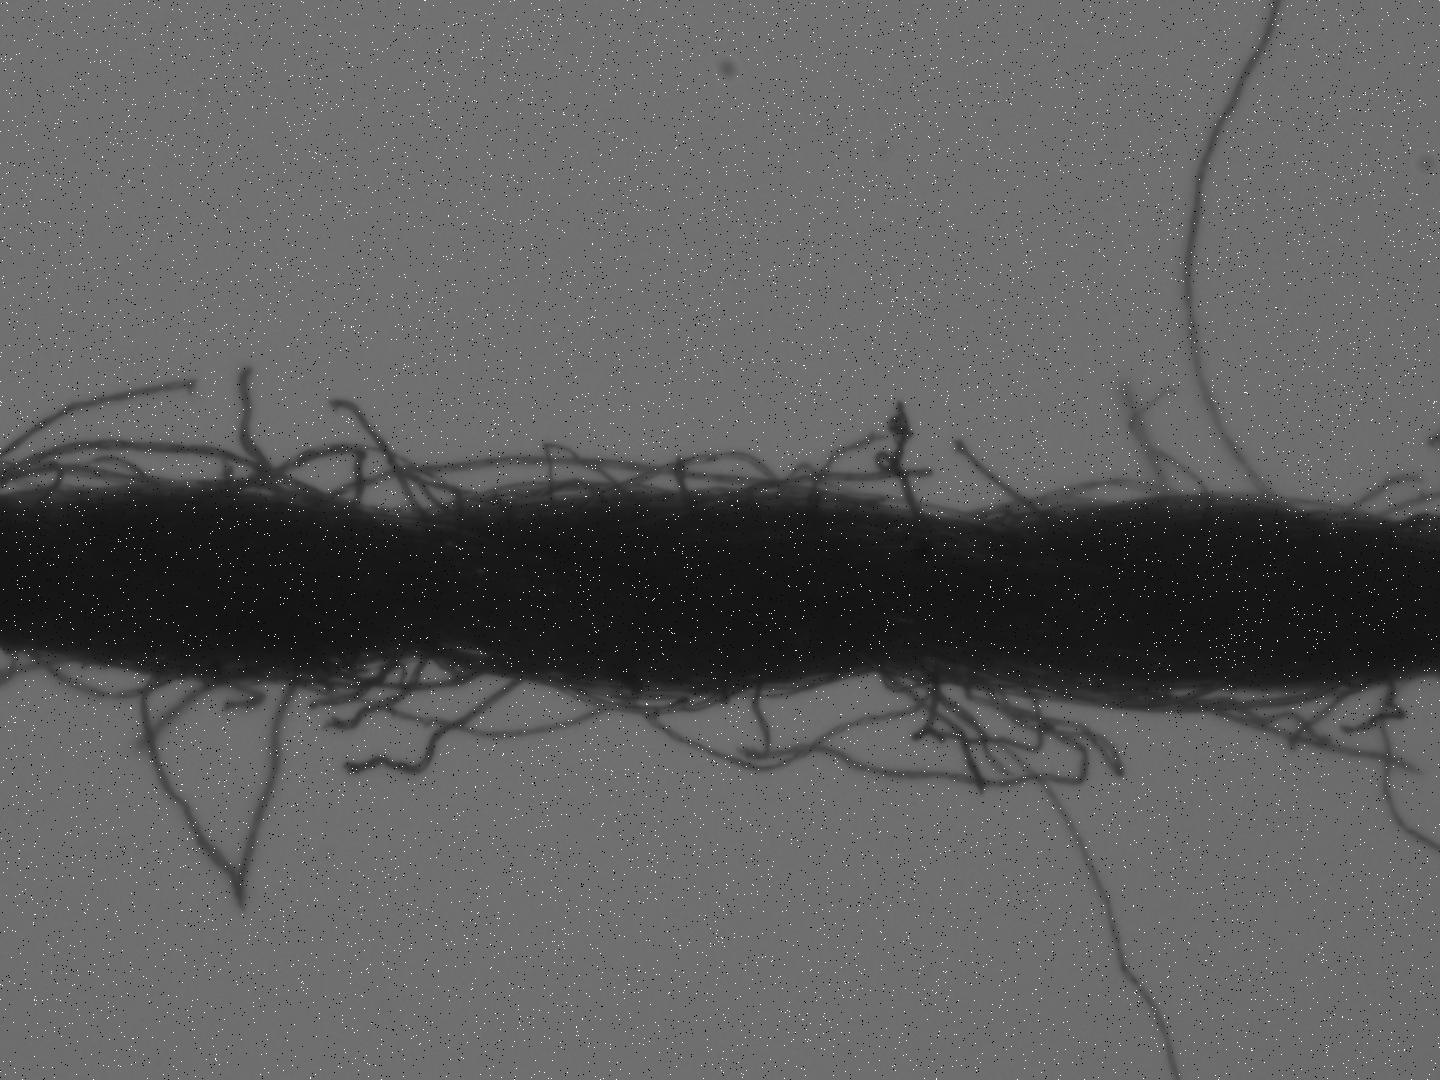loop_fiber: (139, 660, 298, 921), (1067, 667, 1342, 719), (906, 664, 1050, 757), (313, 464, 482, 534), (547, 668, 744, 724), (230, 440, 373, 515), (628, 446, 773, 508), (20, 646, 181, 701), (537, 439, 641, 522), (310, 656, 489, 695), (969, 498, 1099, 539), (0, 461, 67, 505)
protruding_fiber: (916, 674, 1191, 1078), (1176, 1, 1302, 523)
